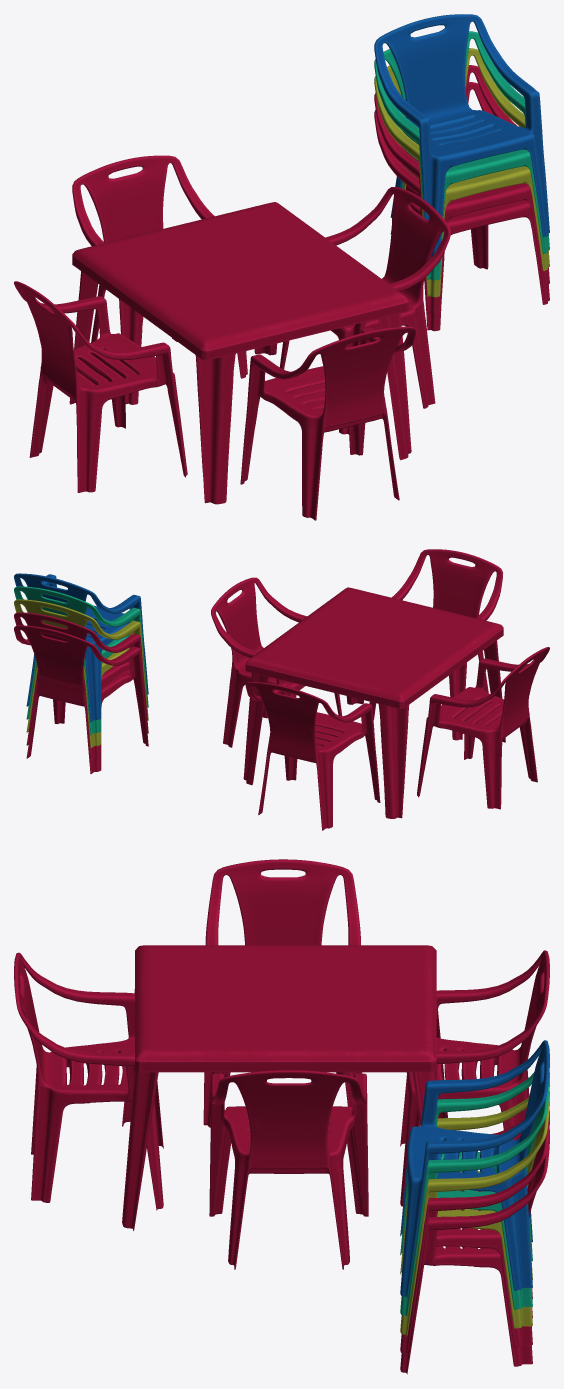
The model's file is plastic_set_-_pluta_table_set.glb.
The picture shows the model from 3 angles, top to bottom: view 1: azimuth 30°, elevation 25°; view 2: azimuth 150°, elevation 25°; view 3: azimuth 270°, elevation 25°; orthographic projection. The views are drawn at different scales.
Parts seen in each view (by area): view 1: Pluta_Table_Pluta_Table__0, Pluta_Table_009_Pluta_Table_Blu_0, Pluta_Table_04_Pluta_Table__0, Pluta_Table_01_Pluta_Table__0, Pluta_Table_03_Pluta_Table__0, Pluta_Table_02_Pluta_Table__0, Pluta_Table_008_Pluta_Table_Verde_0, Pluta_Table_007_Pluta_Table_Yellow_0, Pluta_Table_005_Pluta_Table__0, Pluta_Table_006_Pluta_Table_Red_0; view 2: Pluta_Table_Pluta_Table__0, Pluta_Table_04_Pluta_Table__0, Pluta_Table_03_Pluta_Table__0, Pluta_Table_005_Pluta_Table__0, Pluta_Table_01_Pluta_Table__0, Pluta_Table_02_Pluta_Table__0, Pluta_Table_009_Pluta_Table_Blu_0, Pluta_Table_006_Pluta_Table_Red_0, Pluta_Table_007_Pluta_Table_Yellow_0, Pluta_Table_008_Pluta_Table_Verde_0; view 3: Pluta_Table_Pluta_Table__0, Pluta_Table_02_Pluta_Table__0, Pluta_Table_01_Pluta_Table__0, Pluta_Table_009_Pluta_Table_Blu_0, Pluta_Table_04_Pluta_Table__0, Pluta_Table_03_Pluta_Table__0, Pluta_Table_008_Pluta_Table_Verde_0, Pluta_Table_007_Pluta_Table_Yellow_0, Pluta_Table_005_Pluta_Table__0, Pluta_Table_006_Pluta_Table_Red_0.
Boxes of the visible parts, x1,y1,x2,y2 form: Pluta_Table_Pluta_Table__0: (69,202,411,504); Pluta_Table_009_Pluta_Table_Blu_0: (374,14,549,262); Pluta_Table_04_Pluta_Table__0: (14,281,187,492); Pluta_Table_01_Pluta_Table__0: (240,326,415,520); Pluta_Table_03_Pluta_Table__0: (72,155,247,404); Pluta_Table_02_Pluta_Table__0: (280,187,450,434); Pluta_Table_008_Pluta_Table_Verde_0: (374,31,549,280); Pluta_Table_007_Pluta_Table_Yellow_0: (374,48,549,297); Pluta_Table_005_Pluta_Table__0: (374,82,549,331); Pluta_Table_006_Pluta_Table_Red_0: (374,65,549,314); Pluta_Table_Pluta_Table__0: (243,587,505,818); Pluta_Table_04_Pluta_Table__0: (417,647,549,809); Pluta_Table_03_Pluta_Table__0: (245,682,380,830); Pluta_Table_005_Pluta_Table__0: (14,625,148,773); Pluta_Table_01_Pluta_Table__0: (369,549,502,740); Pluta_Table_02_Pluta_Table__0: (211,577,342,747); Pluta_Table_009_Pluta_Table_Blu_0: (14,573,148,722); Pluta_Table_006_Pluta_Table_Red_0: (14,612,148,760); Pluta_Table_007_Pluta_Table_Yellow_0: (14,599,148,748); Pluta_Table_008_Pluta_Table_Verde_0: (14,586,148,735); Pluta_Table_Pluta_Table__0: (122,945,447,1230); Pluta_Table_02_Pluta_Table__0: (209,1070,368,1269); Pluta_Table_01_Pluta_Table__0: (14,952,163,1210); Pluta_Table_009_Pluta_Table_Blu_0: (400,1040,549,1297); Pluta_Table_04_Pluta_Table__0: (203,859,362,1127); Pluta_Table_03_Pluta_Table__0: (400,950,549,1206); Pluta_Table_008_Pluta_Table_Verde_0: (400,1072,549,1316); Pluta_Table_007_Pluta_Table_Yellow_0: (400,1092,549,1335); Pluta_Table_005_Pluta_Table__0: (400,1130,549,1374); Pluta_Table_006_Pluta_Table_Red_0: (400,1111,549,1354).
Size of the model in its own units: 2.56 by 1.09 by 1.87.
5 materials, 5 textured.
